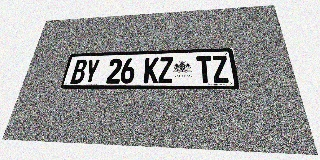2: (106, 58, 123, 84)
6: (120, 58, 136, 83)
B: (70, 59, 88, 84)
K: (143, 57, 159, 83)
T: (196, 56, 213, 83)
Y: (83, 59, 100, 84)
Z: (211, 55, 230, 83), (158, 57, 173, 83)
